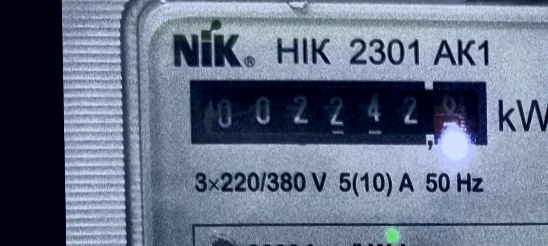0: (213, 97, 233, 131), (251, 94, 270, 127)
2: (289, 94, 309, 126), (326, 94, 344, 128), (400, 94, 417, 126)
4: (364, 91, 380, 124)
6: (440, 88, 456, 115)
screen: (177, 65, 497, 160)
